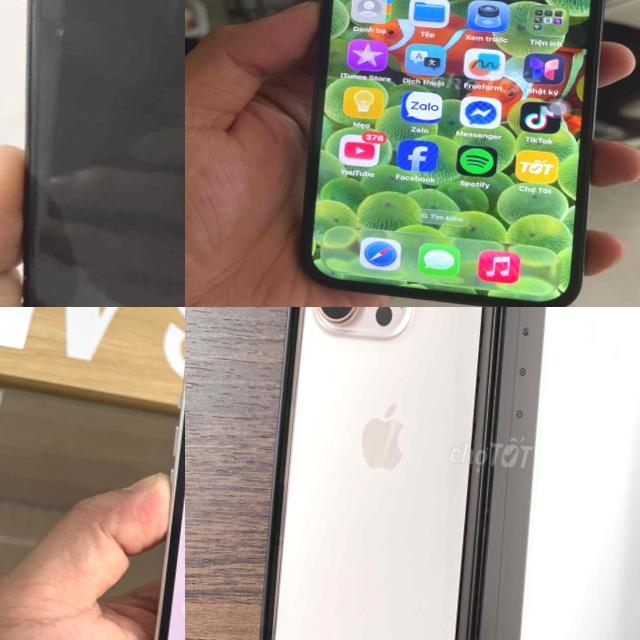gen_11: (294, 0, 622, 307)
gen_12_13: (131, 319, 185, 640)
gen_16: (272, 307, 484, 640)
gen_7_8: (0, 0, 185, 307)
scratch: (48, 18, 69, 42)
